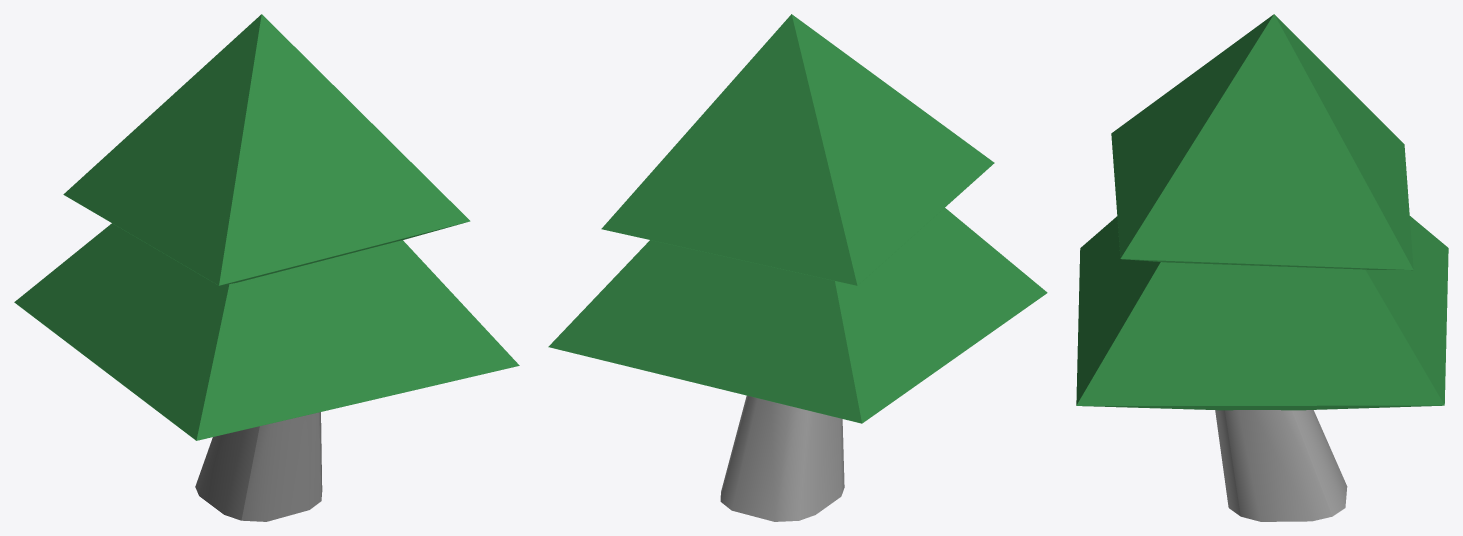
The model's file is Tree_1.fbx.
3 renders of one model, left to right at view 1: azimuth 30°, elevation 25°; view 2: azimuth 150°, elevation 25°; view 3: azimuth 270°, elevation 25°, orthographic.
Parts seen in each view (by area): view 1: pPyramid7, pPyramid6, pCube36; view 2: pPyramid7, pPyramid6, pCube36; view 3: pPyramid6, pPyramid7, pCube36.
Part boxes in pixels (x1,y1,x2,y2): pPyramid7: [14, 223, 519, 440]; pPyramid6: [63, 14, 470, 285]; pCube36: [195, 412, 322, 521]; pPyramid7: [548, 208, 1047, 423]; pPyramid6: [601, 14, 994, 285]; pCube36: [720, 395, 844, 521]; pPyramid6: [1111, 14, 1413, 270]; pPyramid7: [1076, 216, 1448, 410]; pCube36: [1215, 410, 1347, 521].
Bounding box in the file's own units: 2.09 × 2.98 × 2.09.
